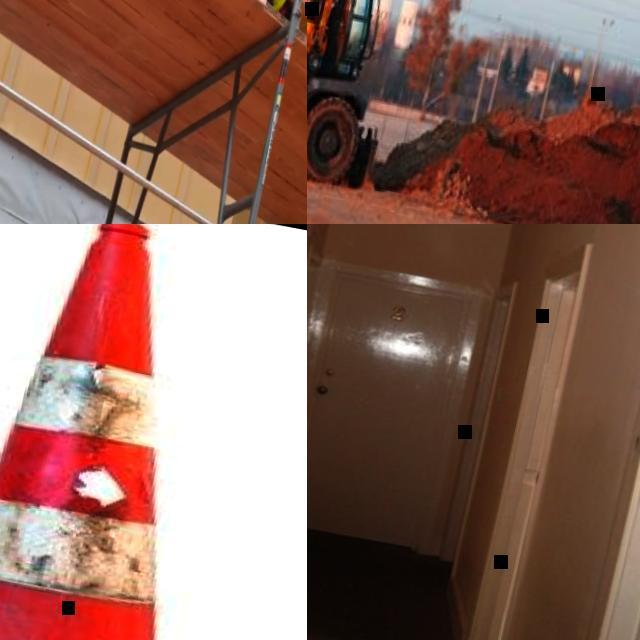machinery: (307, 0, 640, 224)
safety_cone: (0, 224, 307, 640)
